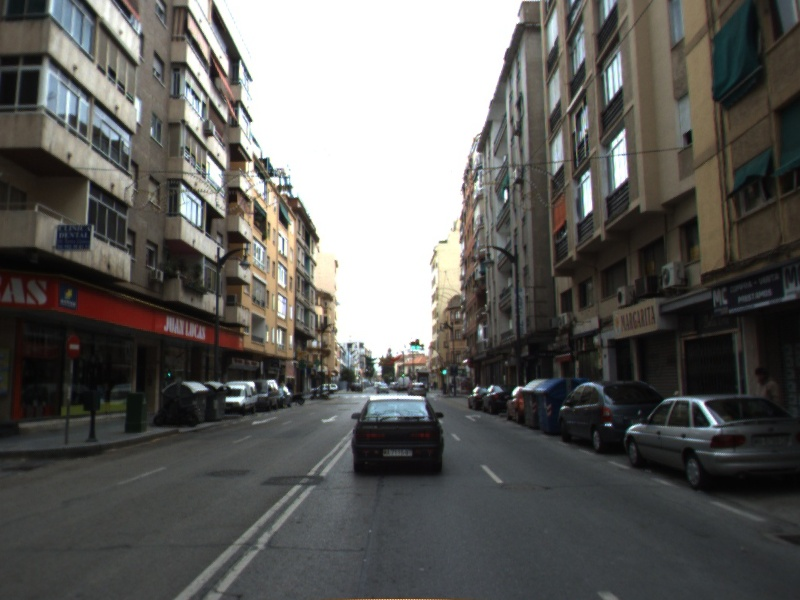RIGHT: (463, 412, 483, 423)
